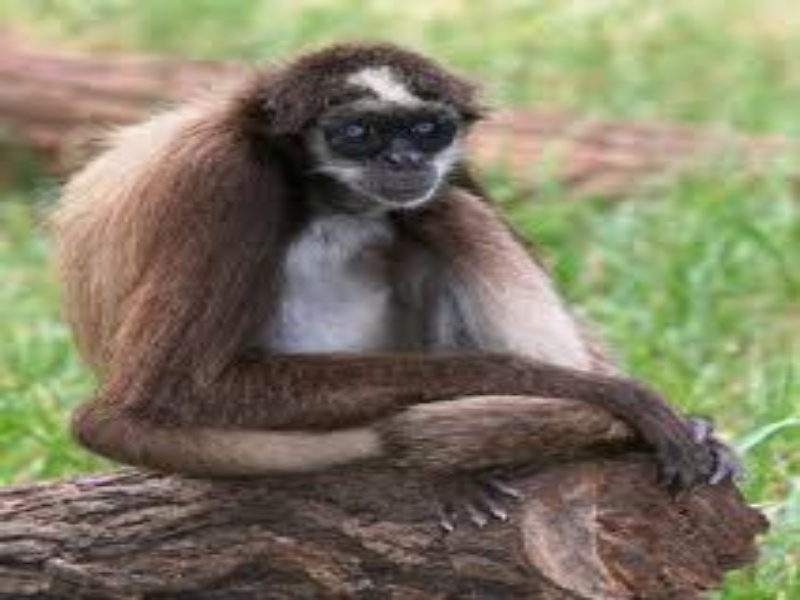monkey: (44, 37, 673, 489)
